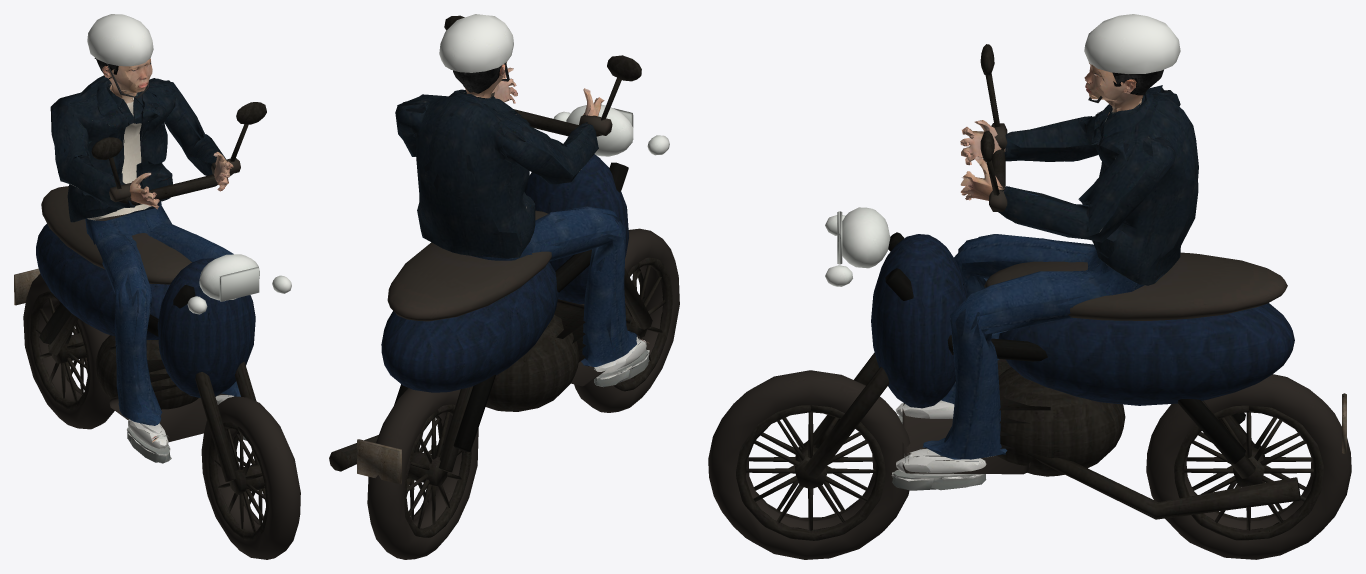
The model's file is xe_may_01_chay.glb.
The picture shows the model from 3 angles, left to right: view 1: azimuth 30°, elevation 25°; view 2: azimuth 150°, elevation 25°; view 3: azimuth 270°, elevation 25°; orthographic projection. The views are drawn at different scales.
Visible parts, largest first — view 1: xe_may_01_chay; view 2: xe_may_01_chay; view 3: xe_may_01_chay.
Part boxes in pixels (x1=…): xe_may_01_chay: x1=14, y1=14, x2=300, y2=559; xe_may_01_chay: x1=329, y1=14, x2=679, y2=559; xe_may_01_chay: x1=708, y1=14, x2=1351, y2=559.
Size of the model in its own units: 0.7033 by 1.69 by 1.82.
Materials: 2 (2 with a texture image).
